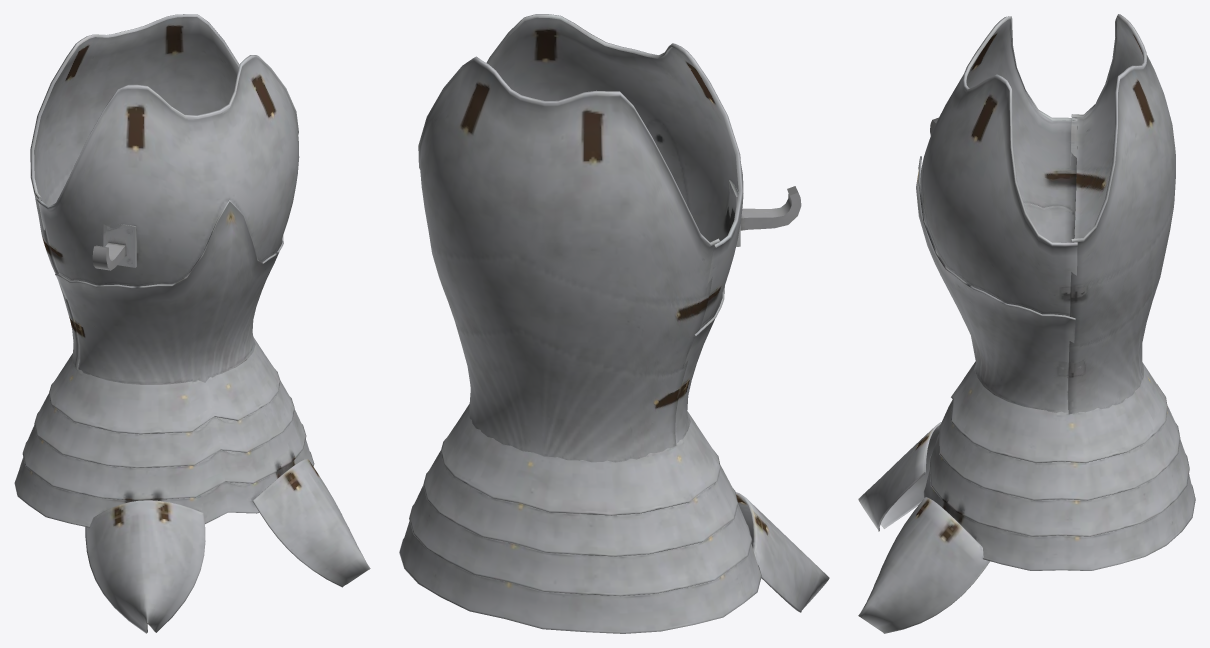
The model's file is cuirass_512.glb.
3 renders of one model, left to right at view 1: azimuth 30°, elevation 25°; view 2: azimuth 150°, elevation 25°; view 3: azimuth 270°, elevation 25°, orthographic. The views are drawn at different scales.
Parts seen in each view (by area): view 1: torso_cuirass, rider_fauld; view 2: torso_cuirass, rider_fauld; view 3: torso_cuirass, rider_fauld.
Part boxes in pixels (bbox=[...]): torso_cuirass: bbox=[30, 14, 299, 384]; rider_fauld: bbox=[14, 337, 370, 633]; torso_cuirass: bbox=[418, 14, 801, 462]; rider_fauld: bbox=[399, 404, 829, 633]; torso_cuirass: bbox=[916, 14, 1175, 414]; rider_fauld: bbox=[858, 361, 1195, 633].
Bounding box in the file's own units: 0.4949 × 0.8738 × 0.498.
Materials: 1 (1 with a texture image).
